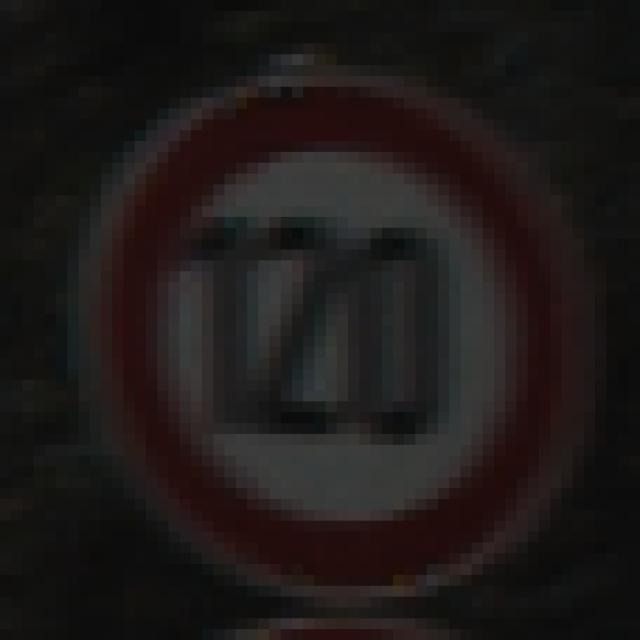Ograniczenie predkosci do 120: (72, 75, 599, 607)
